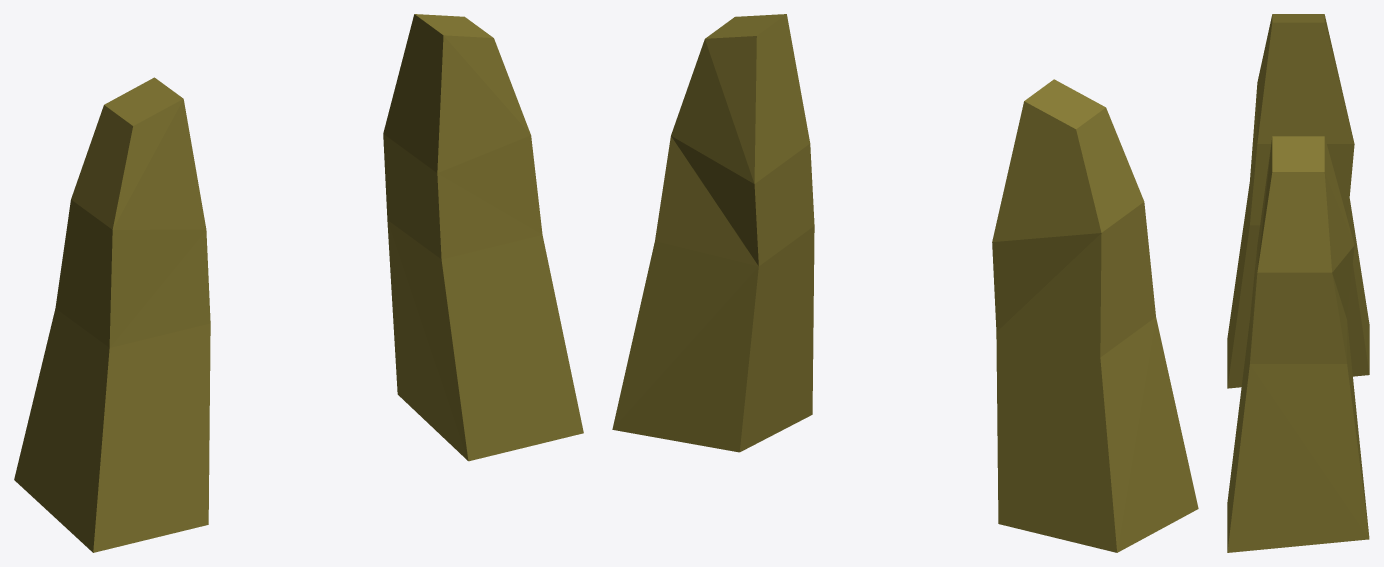
File: player_female_arms_64_0.obj
3 views of the same model, side by side, from view 1: azimuth 30°, elevation 25°; view 2: azimuth 150°, elevation 25°; view 3: azimuth 270°, elevation 25° (orthographic). The views are drawn at different scales.
Size of the model in its own units: 0.5312 by 0.4219 by 0.1484.
